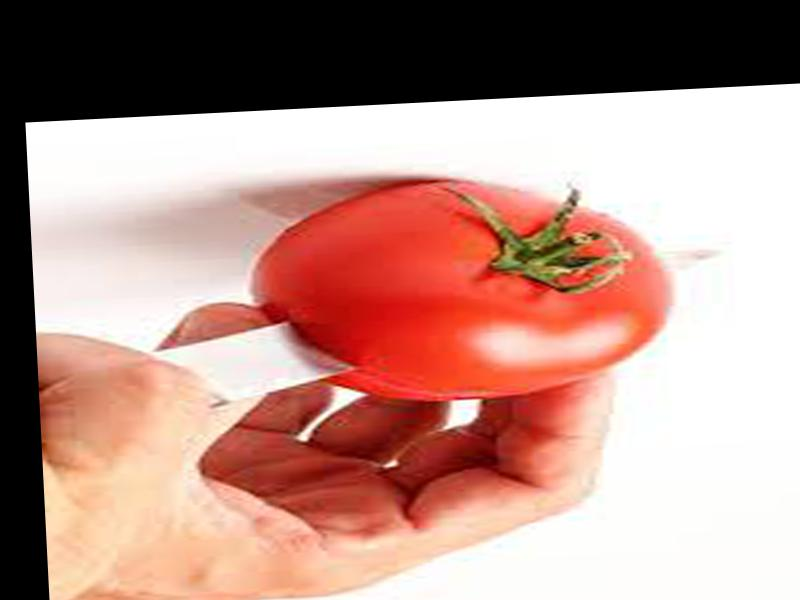Tomato: (248, 170, 669, 411)
